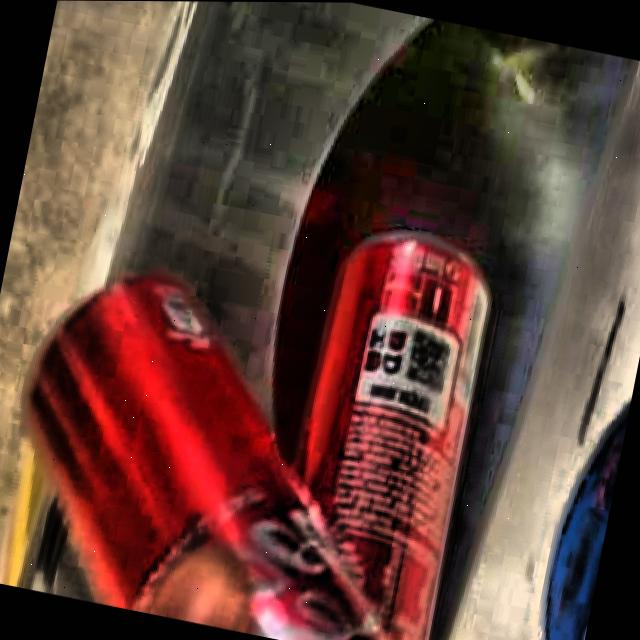metal: (32, 233, 487, 640)
